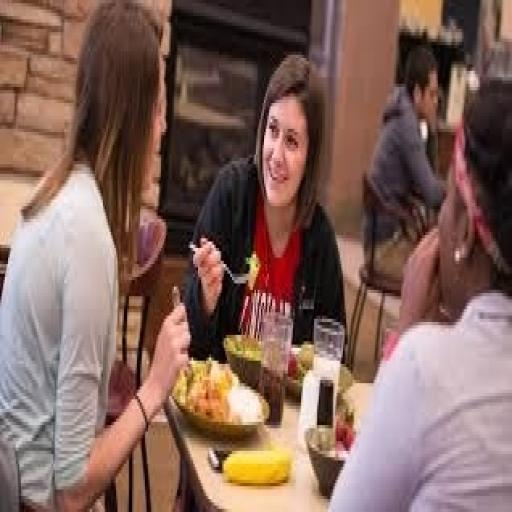eating: (0, 0, 192, 509), (327, 71, 510, 509), (182, 48, 349, 361)
